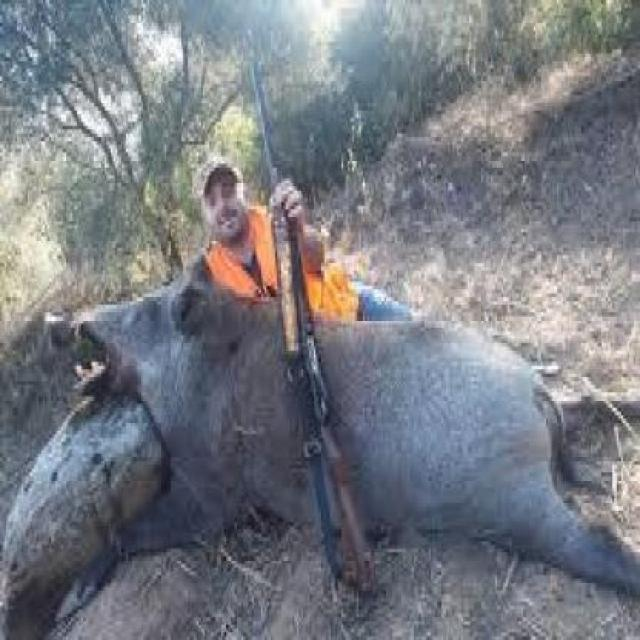wildboar: (0, 249, 640, 640)
